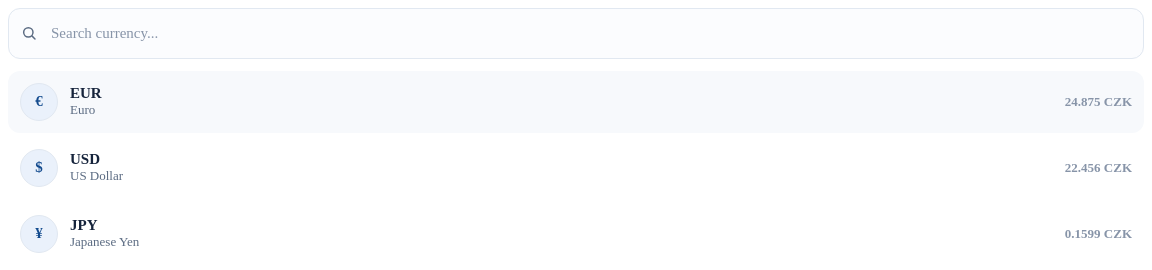
Test: RatesList › filters by country name
The image size is (1152, 270).
Type "japan" into the field with placeholder "Search currency...".
click(590, 33); type("japan")  # box [49,21,1131,46]
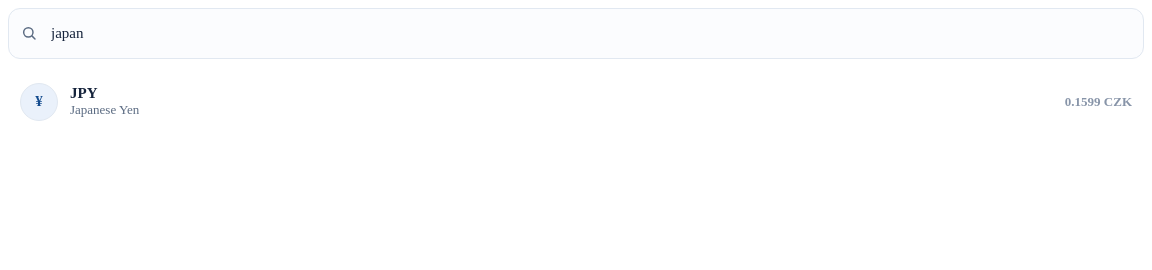
Expected: the list item "¥ JPY Japanese Yen 0.1599 CZK" is shown, [8,70,1144,132]
Result: the list item "Euro" is gone
